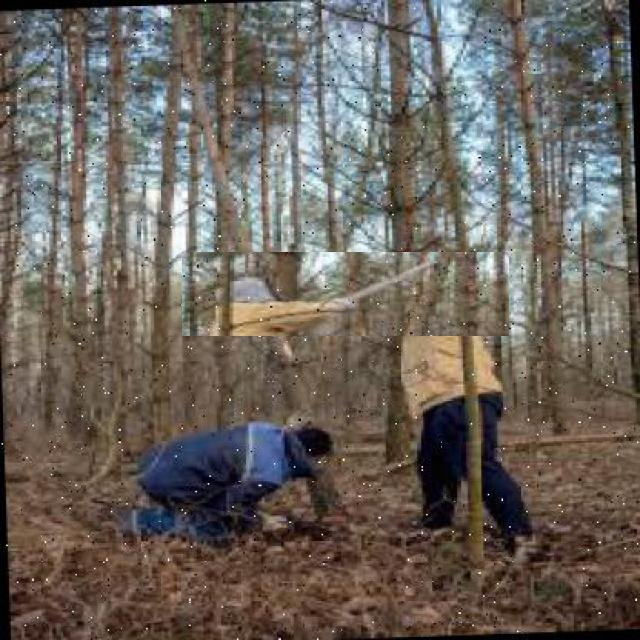poacher: (391, 244, 544, 546), (100, 400, 357, 551), (182, 252, 509, 336)
